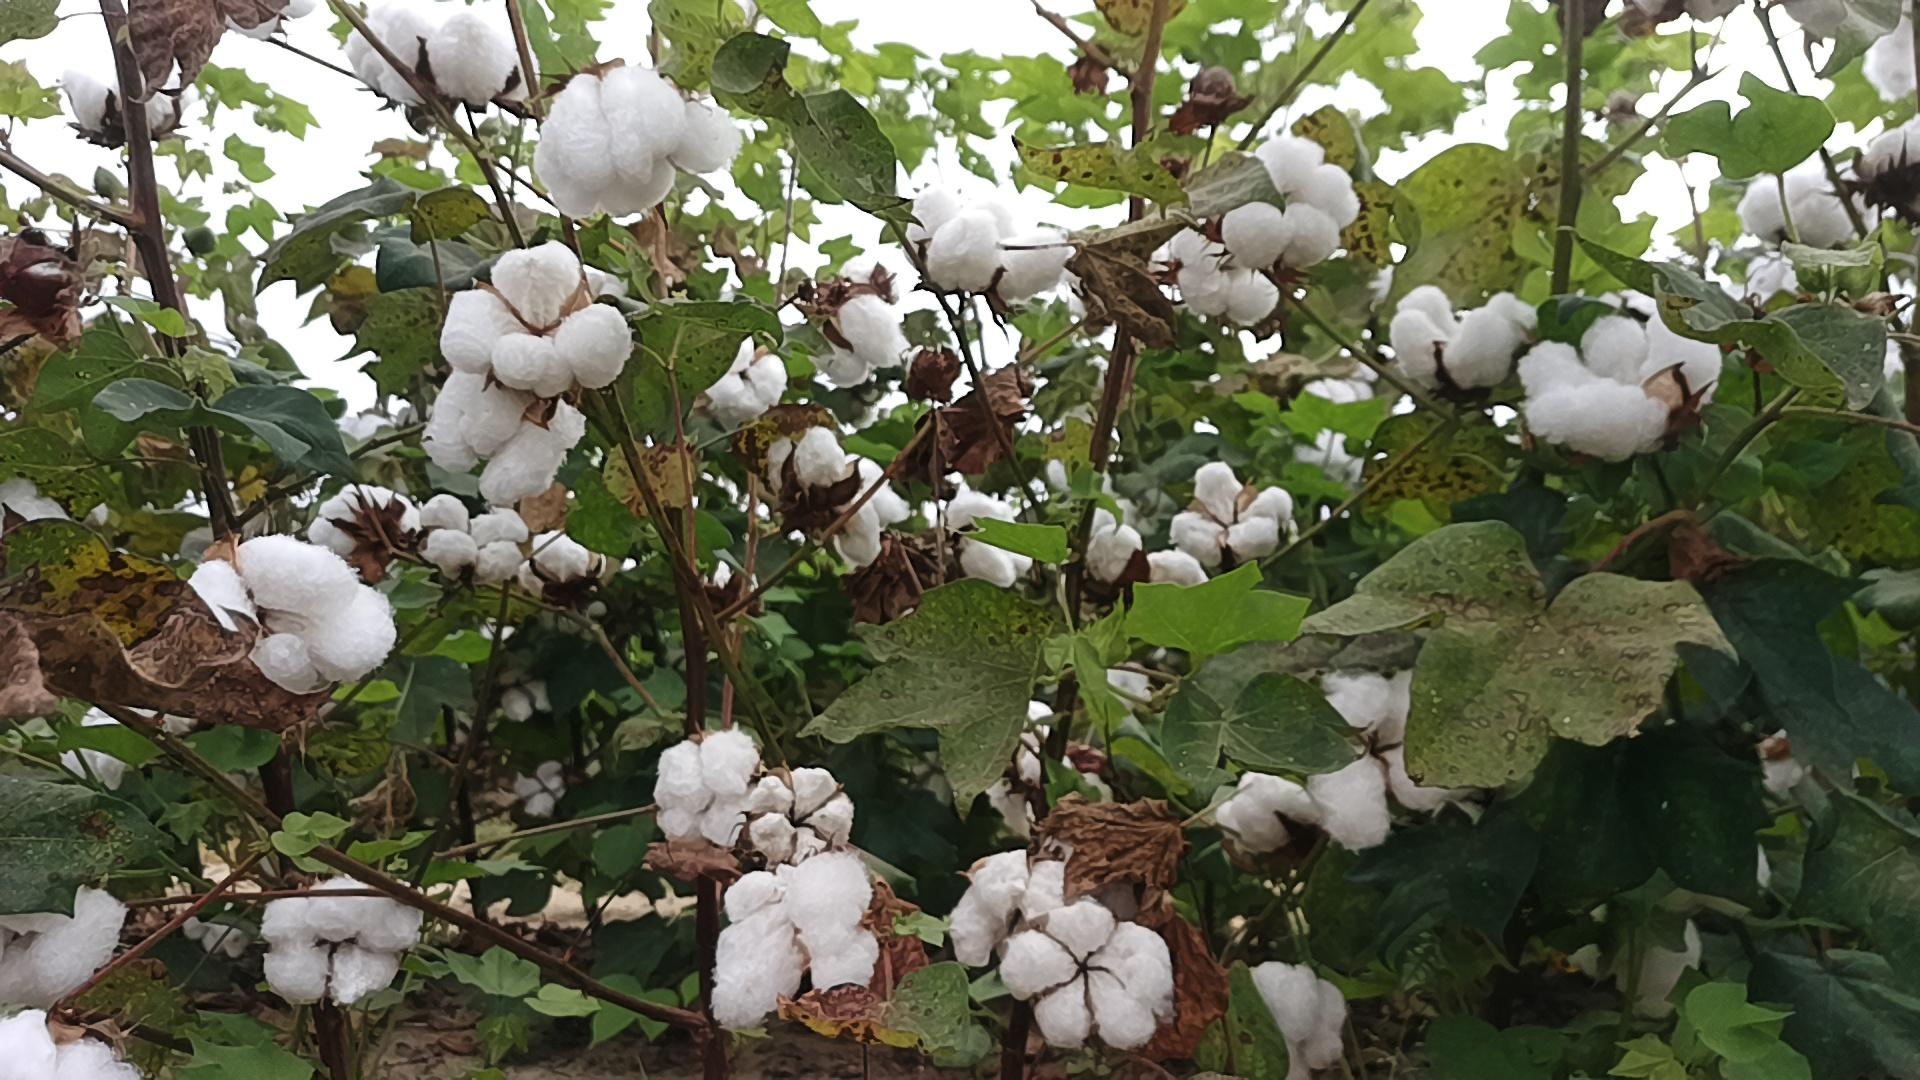cotton_ready: (1513, 290, 1724, 463), (178, 537, 398, 702), (1309, 669, 1506, 853), (535, 66, 736, 222), (713, 853, 882, 1033), (438, 240, 630, 396), (998, 899, 1174, 1047), (429, 365, 589, 506), (261, 876, 422, 1009), (1228, 133, 1364, 276), (909, 183, 1065, 303), (1, 880, 132, 1017), (952, 849, 1093, 971), (340, 8, 514, 105), (1393, 284, 1536, 396), (770, 430, 884, 563), (653, 720, 760, 851), (806, 262, 913, 386), (1240, 957, 1346, 1080), (1172, 212, 1284, 326), (1171, 460, 1295, 562), (310, 481, 419, 591), (742, 761, 858, 858), (0, 1007, 145, 1080), (1216, 766, 1320, 866), (55, 66, 187, 144), (421, 493, 526, 585), (518, 527, 596, 609)
